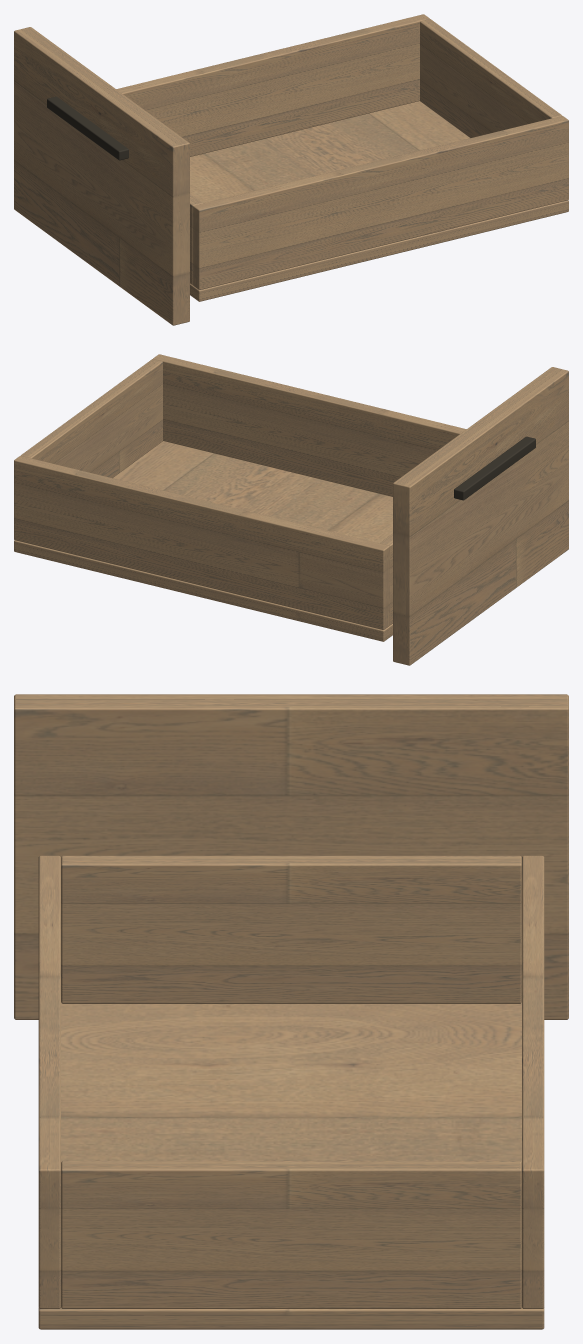
The model's file is desk_drawer.glb.
The picture shows the model from 3 angles, top to bottom: view 1: azimuth 30°, elevation 25°; view 2: azimuth 150°, elevation 25°; view 3: azimuth 270°, elevation 25°; orthographic projection. The views are drawn at different scales.
Parts seen in each view (by area): view 1: desk_drawer_front, desk_drawer_bin_0_side_-1, desk_drawer, desk_drawer_bin_0_floor, desk_drawer_pull; view 2: desk_drawer, desk_drawer_front, desk_drawer_bin_0_side_-1, desk_drawer_bin_0_floor, desk_drawer_pull; view 3: desk_drawer_front, desk_drawer_bin_0_floor, desk_drawer, desk_drawer_bin_0_end_-1, desk_drawer_bin_0_side_-1.
Boxes of the visible parts, x1,y1,x2,y2 form: desk_drawer_front: (14, 27, 189, 325); desk_drawer_bin_0_side_-1: (193, 116, 568, 289); desk_drawer: (116, 14, 562, 156); desk_drawer_bin_0_floor: (190, 101, 568, 301); desk_drawer_pull: (47, 96, 128, 160); desk_drawer: (14, 359, 389, 629); desk_drawer_front: (393, 367, 568, 665); desk_drawer_bin_0_side_-1: (153, 354, 466, 496); desk_drawer_bin_0_floor: (14, 441, 392, 641); desk_drawer_pull: (454, 436, 535, 500); desk_drawer_front: (14, 694, 568, 1019); desk_drawer_bin_0_floor: (38, 1002, 544, 1329); desk_drawer: (61, 855, 544, 1308); desk_drawer_bin_0_end_-1: (61, 855, 521, 1003); desk_drawer_bin_0_side_-1: (38, 855, 60, 1308).
Size of the model in its own units: 0.5925 by 0.245 by 0.395.
2 materials, 1 textured.
